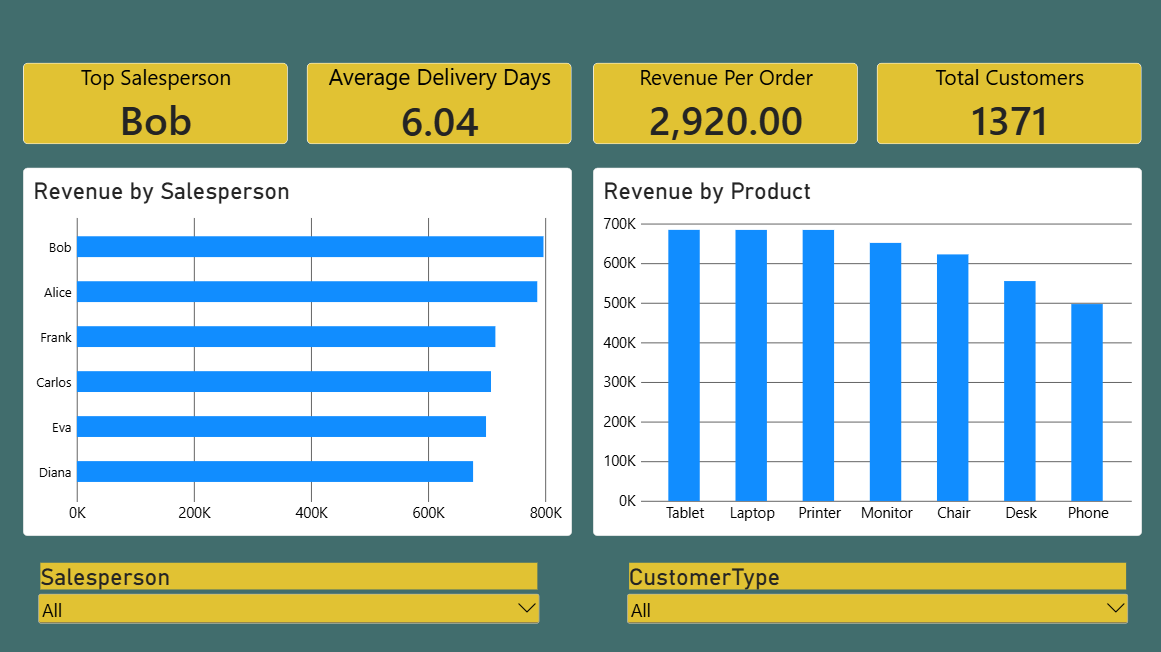

This screenshot's page, from the dashboard's own definition file:
{"tool":"powerbi","page":{"name":"Page 2","canvas":[1920,1080],"ordinal":1},"visuals":[{"type":"cardVisual","fields":{"Data":["DAX Measures.Average Delivery Days"]},"box":[508.7,104.3,436,134],"z":0},{"type":"cardVisual","fields":{"Data":["DAX Measures.Revenue Per Order"]},"box":[980.4,104.3,437,134.8],"z":1000},{"type":"cardVisual","fields":{"Data":["DAX Measures.Top Salesperson"]},"box":[41.3,104.3,437,134.8],"z":2000},{"type":"cardVisual","fields":{"Data":["DAX Measures.Total Customers"]},"box":[1447.8,104.3,437,134.8],"z":3000},{"type":"clusteredColumnChart","title":"Revenue by Product","fields":{"Category":["SalesAnalytics.Product"],"Y":["DAX Measures.Total Revenue"]},"box":[980.4,278.3,904.3,606.5],"z":4000},{"type":"clusteredBarChart","title":"Revenue by Salesperson","fields":{"Category":["SalesAnalytics.Salesperson"],"Y":["DAX Measures.Total Revenue"]},"box":[41.3,278.3,904.3,606.5],"z":5000},{"type":"slicer","fields":{"Values":["SalesAnalytics.CustomerType"]},"box":[1030.4,928.3,834.8,152.2],"z":6000},{"type":"slicer","fields":{"Values":["SalesAnalytics.Salesperson"]},"box":[60.9,928.3,834.8,152.2],"z":7000}]}

Visuals, with their boxes in screenshot pixels (x1, y1, x2, y2), scaled from the page's 1920x1080 canvas onto the 1161x652 screenshot:
cardVisual - DAX Measures.Average Delivery Days: 308 63 571 144
cardVisual - DAX Measures.Revenue Per Order: 593 63 857 144
cardVisual - DAX Measures.Top Salesperson: 25 63 289 144
cardVisual - DAX Measures.Total Customers: 875 63 1140 144
"Revenue by Product" clusteredColumnChart: 593 168 1140 534
"Revenue by Salesperson" clusteredBarChart: 25 168 572 534
slicer - SalesAnalytics.CustomerType: 623 560 1128 651
slicer - SalesAnalytics.Salesperson: 37 560 542 651
